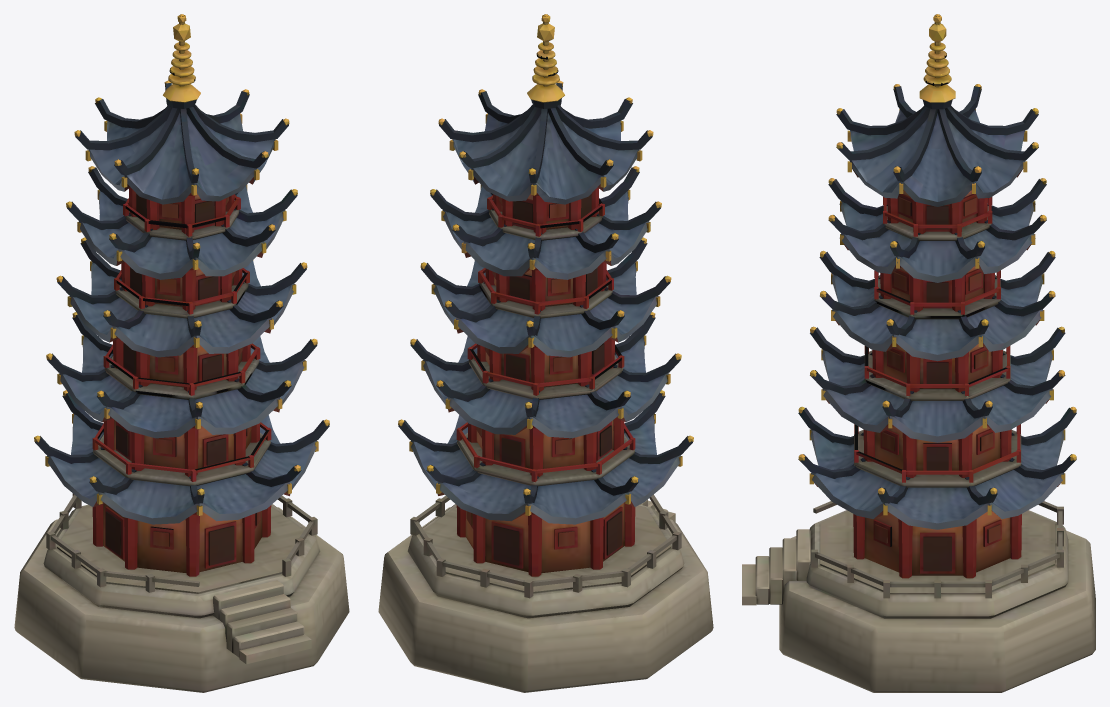
File: a_leifeng.glb
The picture shows the model from 3 angles, left to right: view 1: azimuth 30°, elevation 25°; view 2: azimuth 150°, elevation 25°; view 3: azimuth 270°, elevation 25°; orthographic projection.
Visible parts, largest first — view 1: leifeng; view 2: leifeng; view 3: leifeng.
Part boxes in pixels (bbox=[...]): leifeng: bbox=[14, 14, 349, 692]; leifeng: bbox=[378, 14, 713, 692]; leifeng: bbox=[742, 14, 1095, 692].
Bounding box in the file's own units: 3.07 × 6.56 × 3.43.
Materials: 1 (1 with a texture image).
